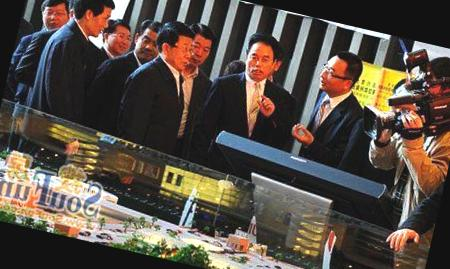no_helmet: (317, 45, 370, 104), (240, 28, 286, 86), (155, 17, 198, 70), (67, 0, 118, 41), (416, 56, 450, 111), (186, 23, 221, 72), (102, 16, 138, 58), (131, 23, 162, 63), (36, 0, 74, 32)
